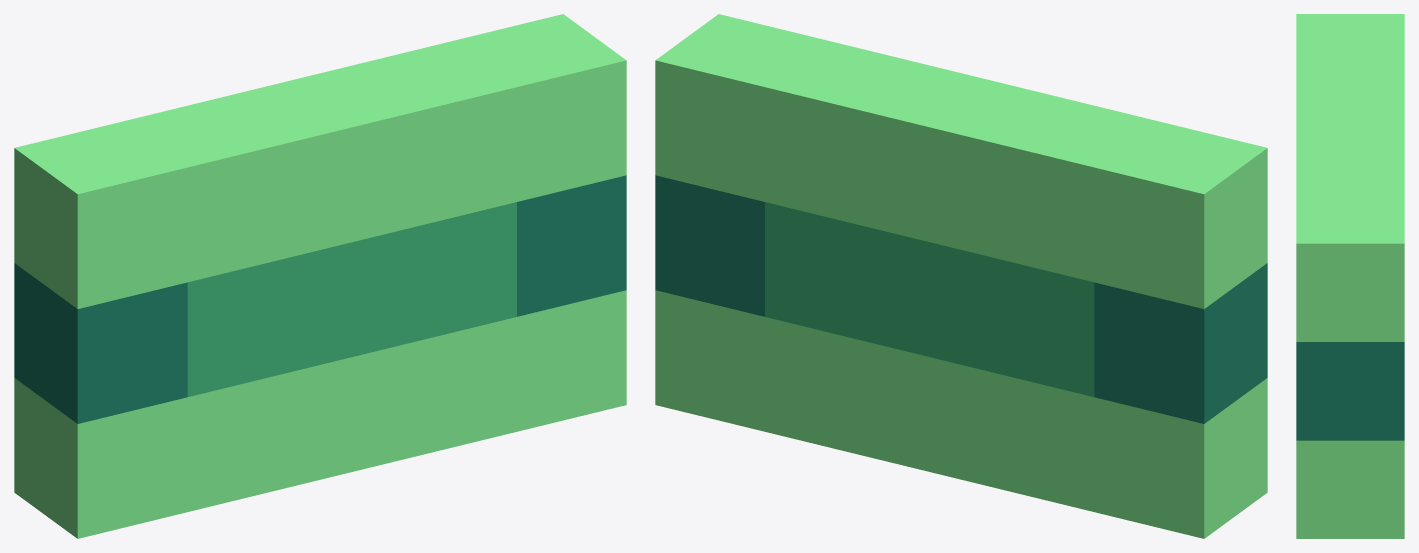
File: Money.obj
3 views of the same model, side by side, from view 1: azimuth 30°, elevation 25°; view 2: azimuth 150°, elevation 25°; view 3: azimuth 270°, elevation 25° (orthographic). The views are drawn at different scales.
Bounding box in the file's own units: 0.5 × 0.3 × 0.1.
Materials: 1 (1 with a texture image).
